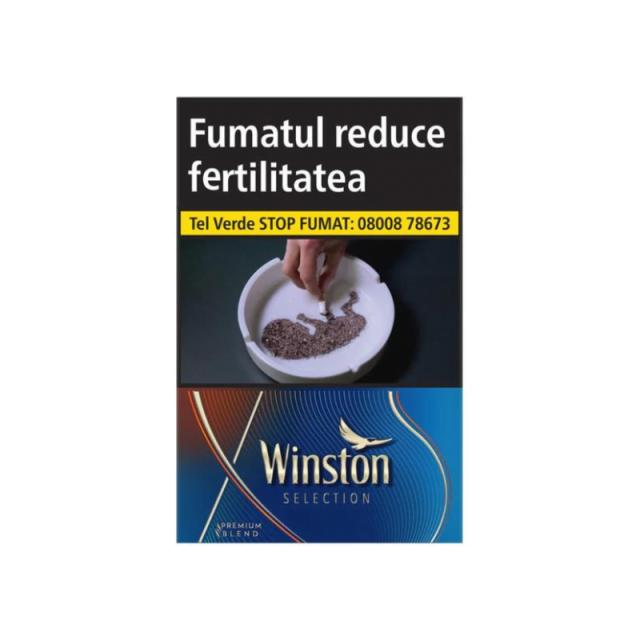winston: (164, 84, 484, 561)
